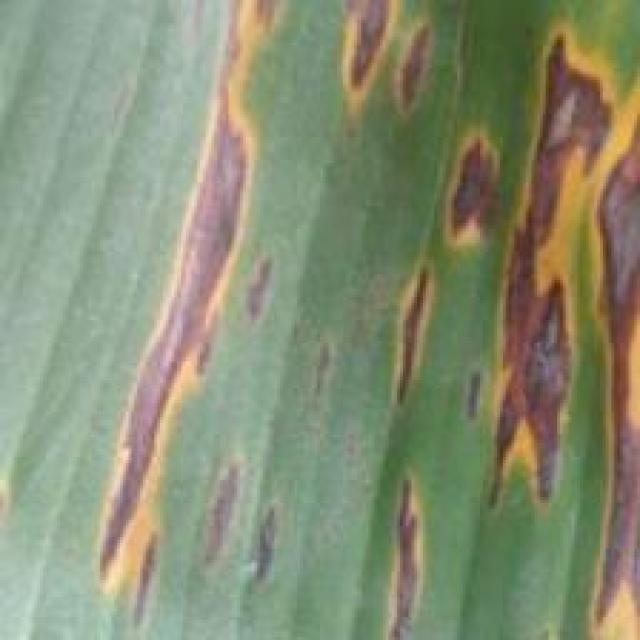Early_leaf_spot: (72, 0, 299, 625), (480, 0, 640, 640), (316, 0, 448, 123), (419, 104, 502, 250), (376, 253, 440, 425), (378, 460, 429, 637), (299, 297, 340, 416)
